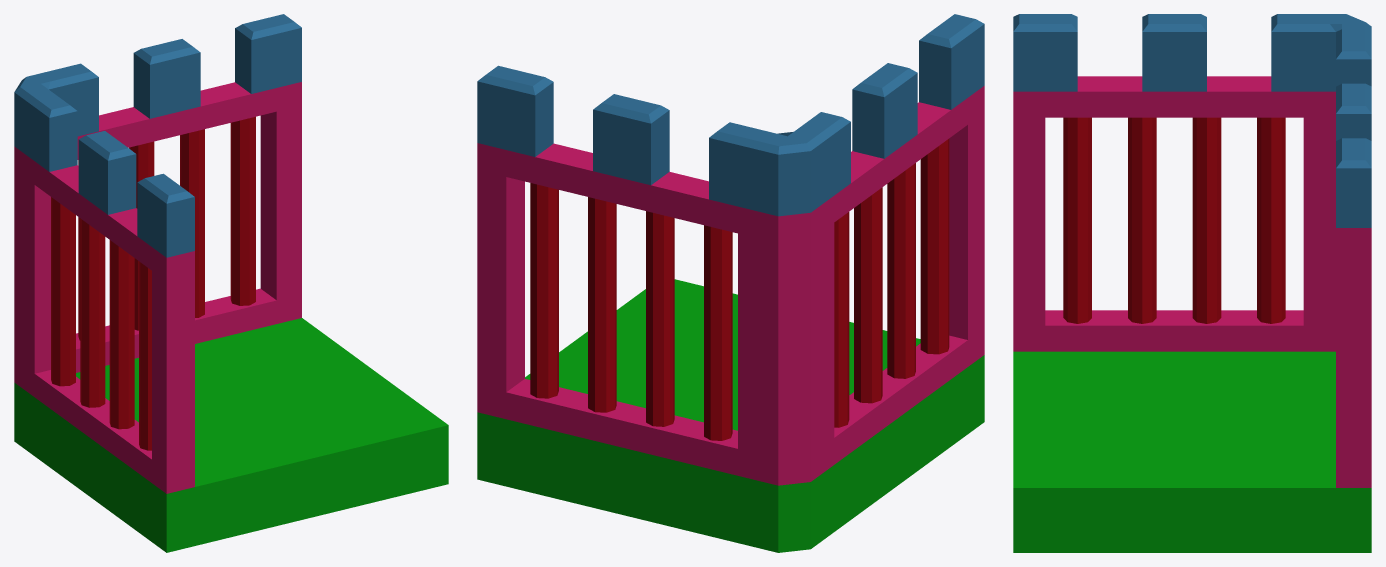
Rendered from phcorner.glb.
The picture shows the model from 3 angles, left to right: view 1: azimuth 30°, elevation 25°; view 2: azimuth 150°, elevation 25°; view 3: azimuth 270°, elevation 25°; orthographic projection. The views are drawn at different scales.
Size of the model in its own units: 5 by 6 by 5.
